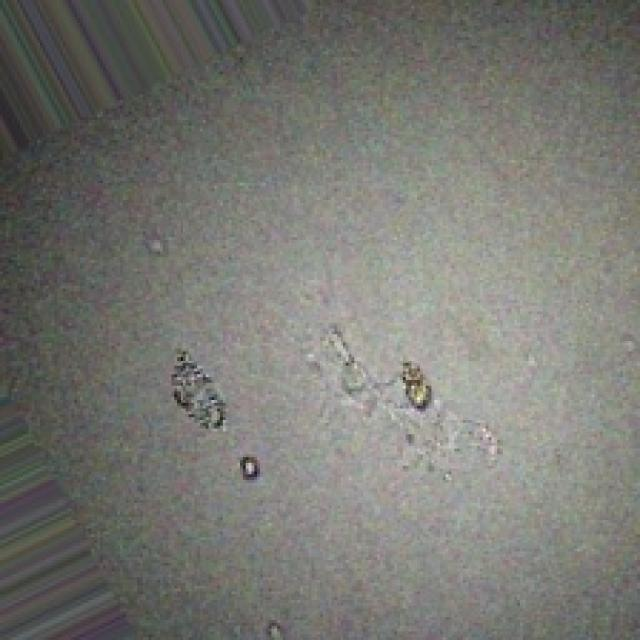Amoeba: (104, 212, 525, 552)
